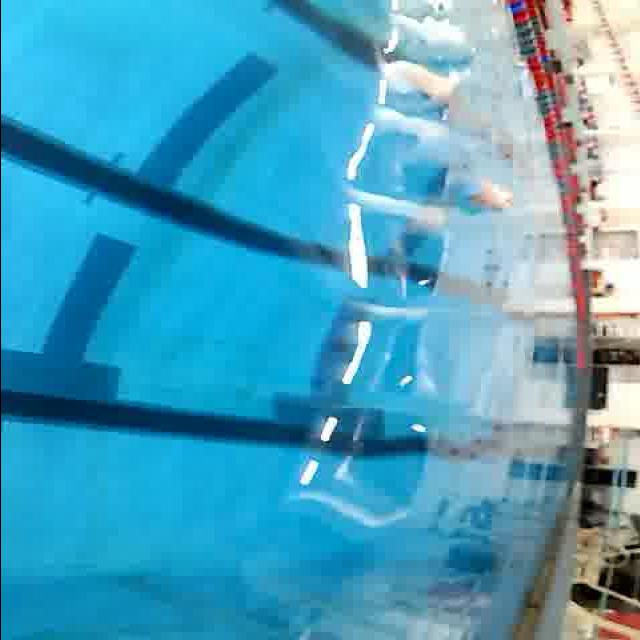Bottle: (443, 167, 517, 214)
